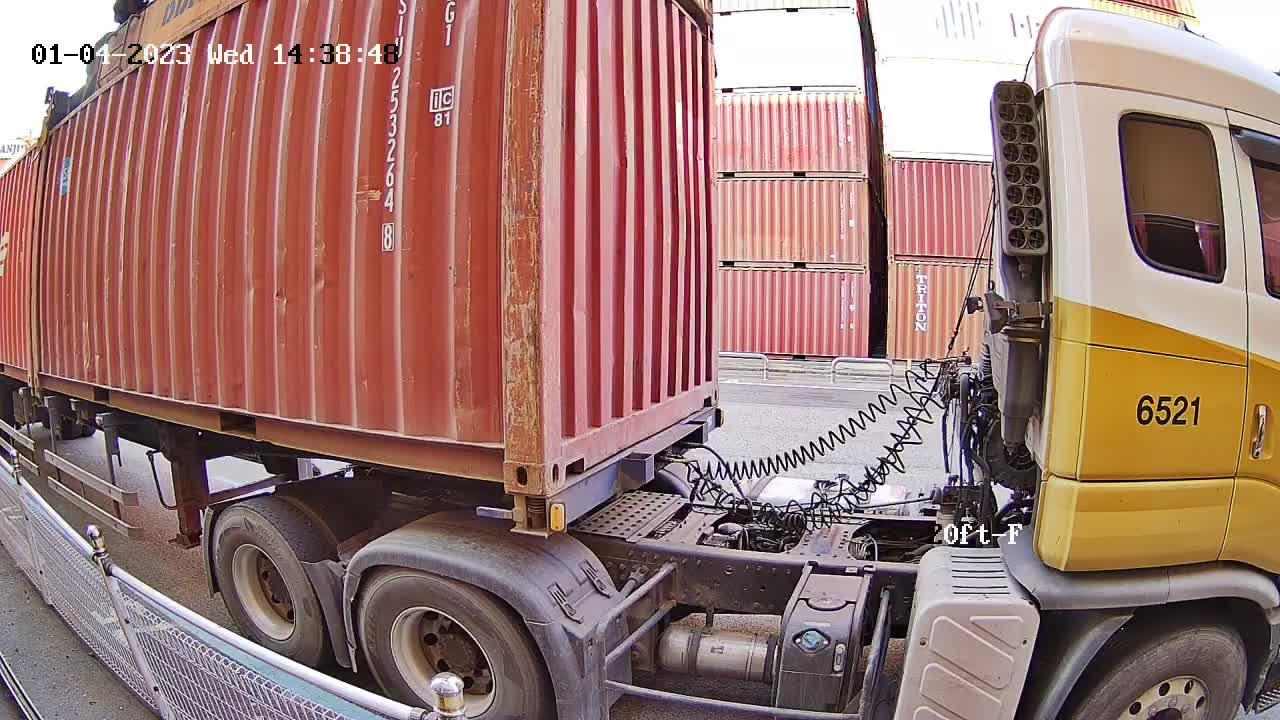Chassis: (504, 404, 721, 534)
Cone: (504, 491, 545, 535)
Hole_L: (544, 410, 591, 494)
Hole_R: (469, 414, 544, 495), (699, 365, 720, 410)
Tire: (359, 570, 536, 718), (212, 506, 320, 666)
